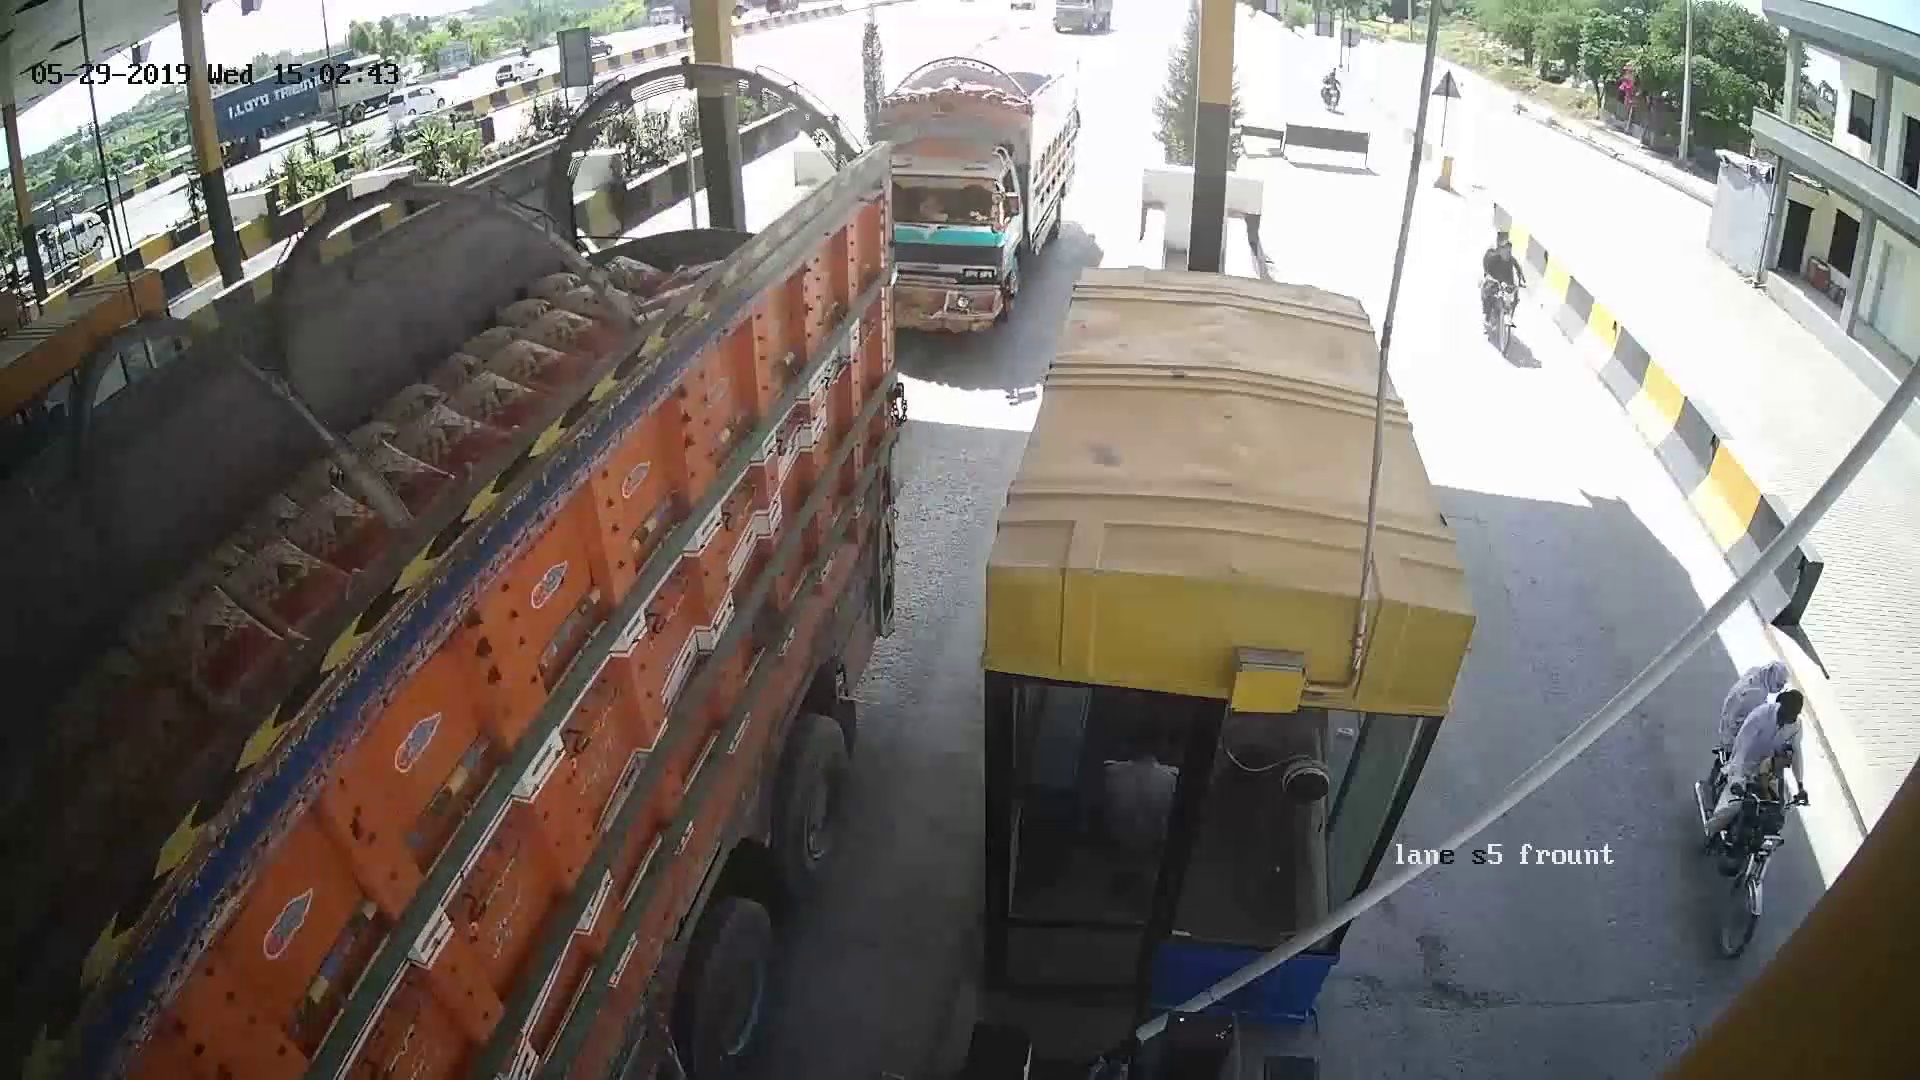truck: (206, 380, 816, 1004), (877, 58, 1067, 342)
